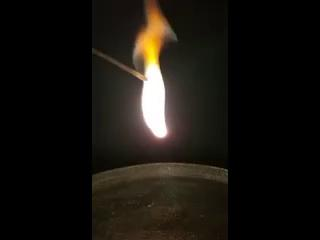Fire: (135, 20, 174, 142)
